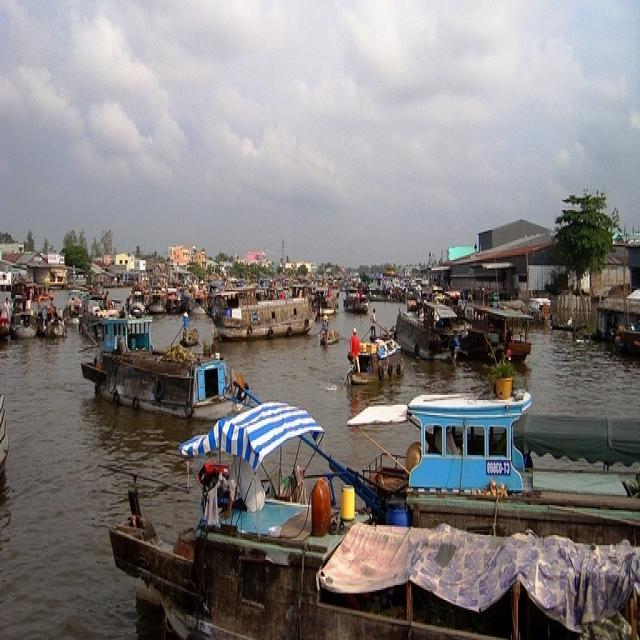boat: (83, 346, 260, 429), (206, 297, 322, 339), (460, 304, 532, 370), (389, 307, 456, 371), (335, 336, 407, 389), (31, 306, 72, 342), (335, 283, 372, 318), (147, 276, 169, 318), (125, 284, 148, 322), (542, 318, 581, 336), (13, 312, 38, 338), (315, 324, 339, 347)
